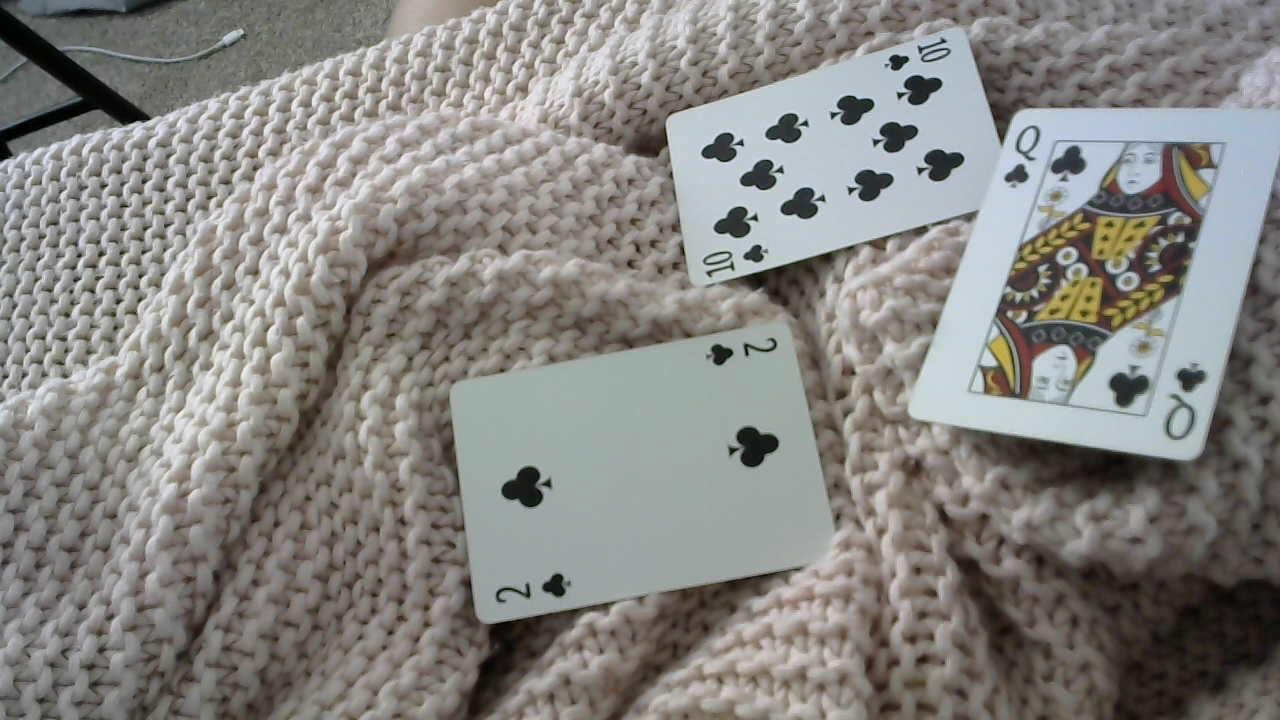10C: (881, 29, 958, 74), (693, 243, 775, 279)
2C: (485, 567, 577, 613), (702, 332, 785, 367)
QC: (1155, 350, 1212, 448), (996, 116, 1046, 194)
